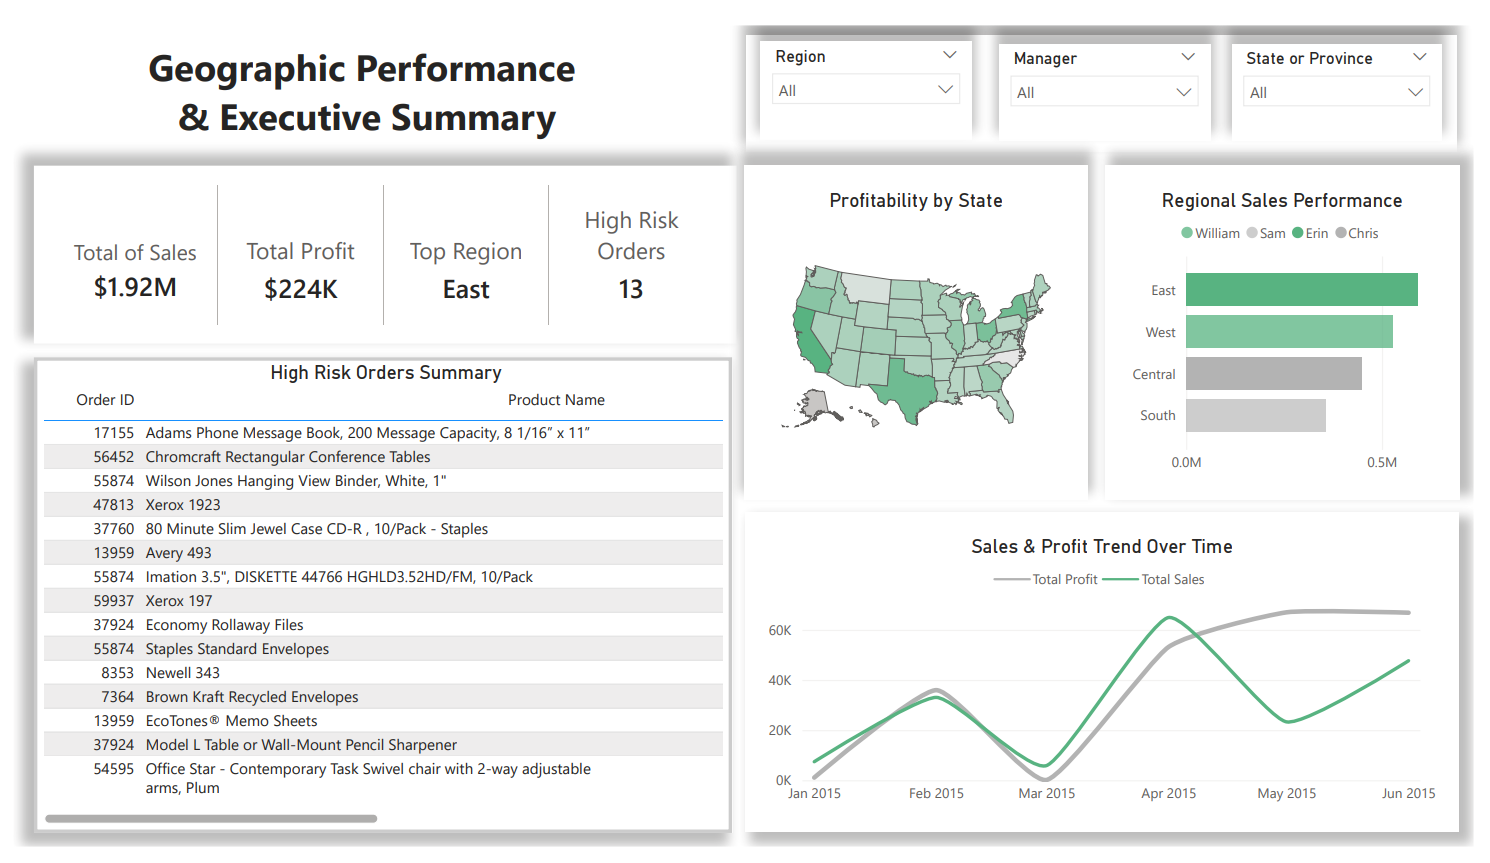

The dashboard page shown, as its layout file describes it:
{"tool":"powerbi","page":{"name":"Geographic Performance & Executive Summary","canvas":[1280,720],"ordinal":3},"visuals":[{"type":"textbox","box":[642,8.7,623.3,102.4],"z":0},{"type":"cardVisual","fields":{"Data":["Orders.Sales","Orders.Total Profit","Orders.Top Region","Orders.High Risk Orders"]},"box":[17.5,122.5,616.2,156.2],"z":1000},{"type":"slicer","fields":{"Values":["Orders.Region"]},"box":[655,14.4,184.7,85.1],"z":2000},{"type":"slicer","fields":{"Values":["Orders.State or Province"]},"box":[1067.6,15.9,184.7,85.1],"z":3000},{"type":"slicer","fields":{"Values":["Orders.Manager"]},"box":[864.2,15.9,184.7,85.1],"z":4000},{"type":"tableEx","title":"High Risk Orders Summary","fields":{"Values":["Orders.Order ID","Orders.Product Name","Orders.Profit","Orders.Discount","Orders.Returned","Orders.Discount Level"]},"box":[17.5,291.2,612.5,416.2],"z":5000},{"type":"shapeMap","title":"Profitability by State","fields":{"Value":["Orders.Profit"],"Category":["Orders.State or Province"]},"box":[640.6,122.6,301.5,292.9],"z":6000},{"type":"barChart","title":"Regional Sales Performance","fields":{"Category":["Orders.Region"],"Y":["Orders.Sales"],"Series":["Orders.Manager"]},"box":[956.6,122.6,311.6,292.9],"z":7000},{"type":"lineChart","title":"Sales & Profit Trend Over Time ","fields":{"Category":["Orders.Order YearMonth.Variation.Date Hierarchy.Year","Orders.Order YearMonth.Variation.Date Hierarchy.Month"],"Y":["Orders.Total Profit"],"Y2":["Orders.Total Sales"]},"box":[642,427.1,624.7,279.9],"z":8000},{"type":"textbox","box":[7.2,8.7,606,106.8],"z":9000}]}

Visuals, with their boxes in screenshot pixels (x1, y1, x2, y2), scaled from the page's 1280x720 canvas onto the 1490x863 screenshot:
textbox: l=747, t=10, r=1473, b=133
cardVisual - Orders.Sales x Orders.Total Profit: l=20, t=147, r=738, b=334
slicer - Orders.Region: l=762, t=17, r=977, b=119
slicer - Orders.State or Province: l=1243, t=19, r=1458, b=121
slicer - Orders.Manager: l=1006, t=19, r=1221, b=121
"High Risk Orders Summary" tableEx: l=20, t=349, r=733, b=848
"Profitability by State" shapeMap: l=746, t=147, r=1097, b=498
"Regional Sales Performance" barChart: l=1114, t=147, r=1476, b=498
"Sales & Profit Trend Over Time " lineChart: l=747, t=512, r=1475, b=847
textbox: l=8, t=10, r=714, b=138
